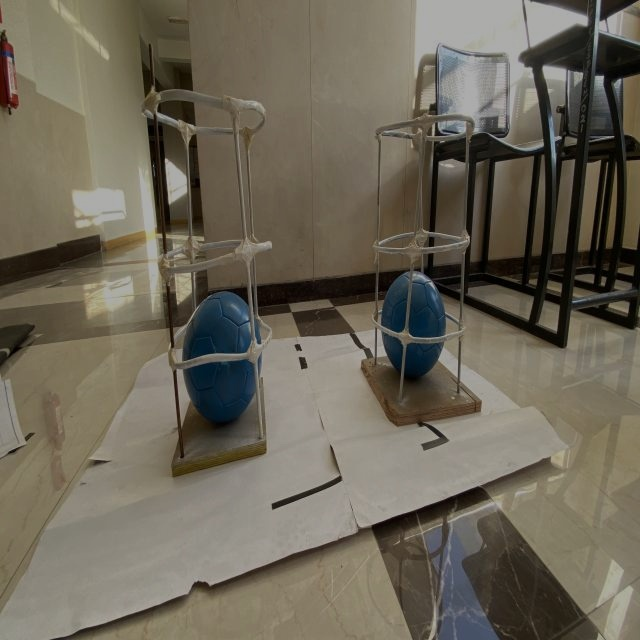blue_ball: (182, 287, 262, 414), (384, 272, 444, 371)
silo: (144, 78, 270, 458), (366, 114, 483, 412)
